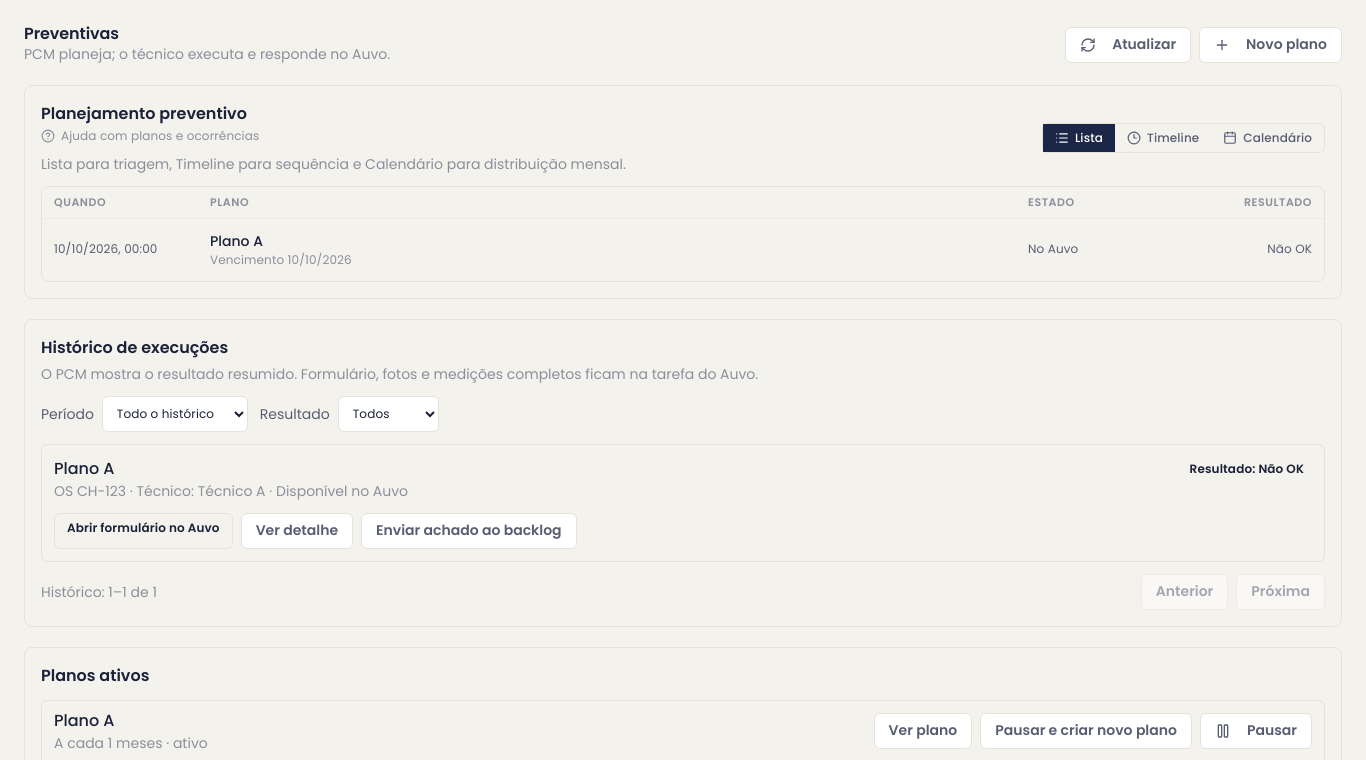
it: PreventivasWorkspace — E01-S53 / E01-S163 AC-10 e AC-15 › abre o detalhe da ocorrência ao selecioná-la no calendário
The image size is (1366, 760).
Click the button "Calendário" at {"x": 1268, "y": 138}, box [1211,124,1324,152]
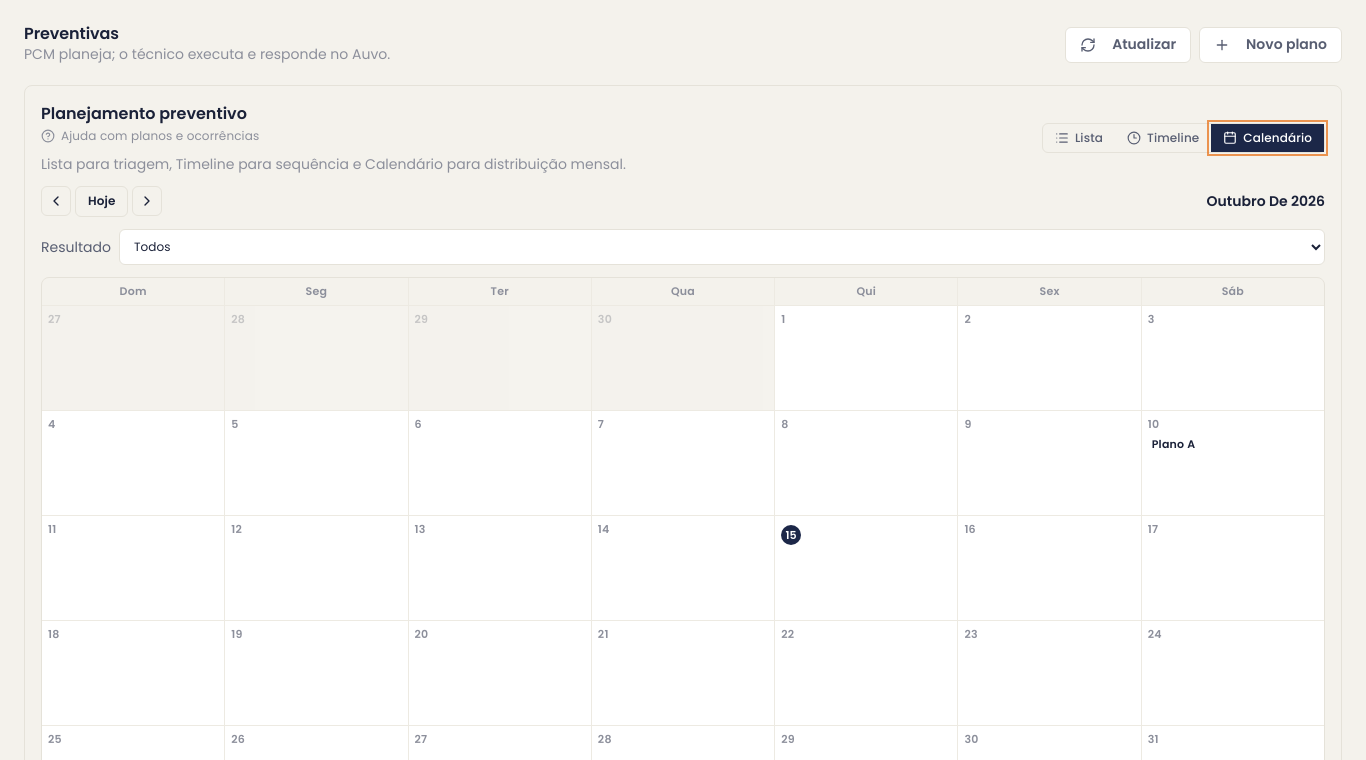
Click the button with aria-label "Plano A: No Auvo" at {"x": 1233, "y": 445}, box [1148,436,1318,454]
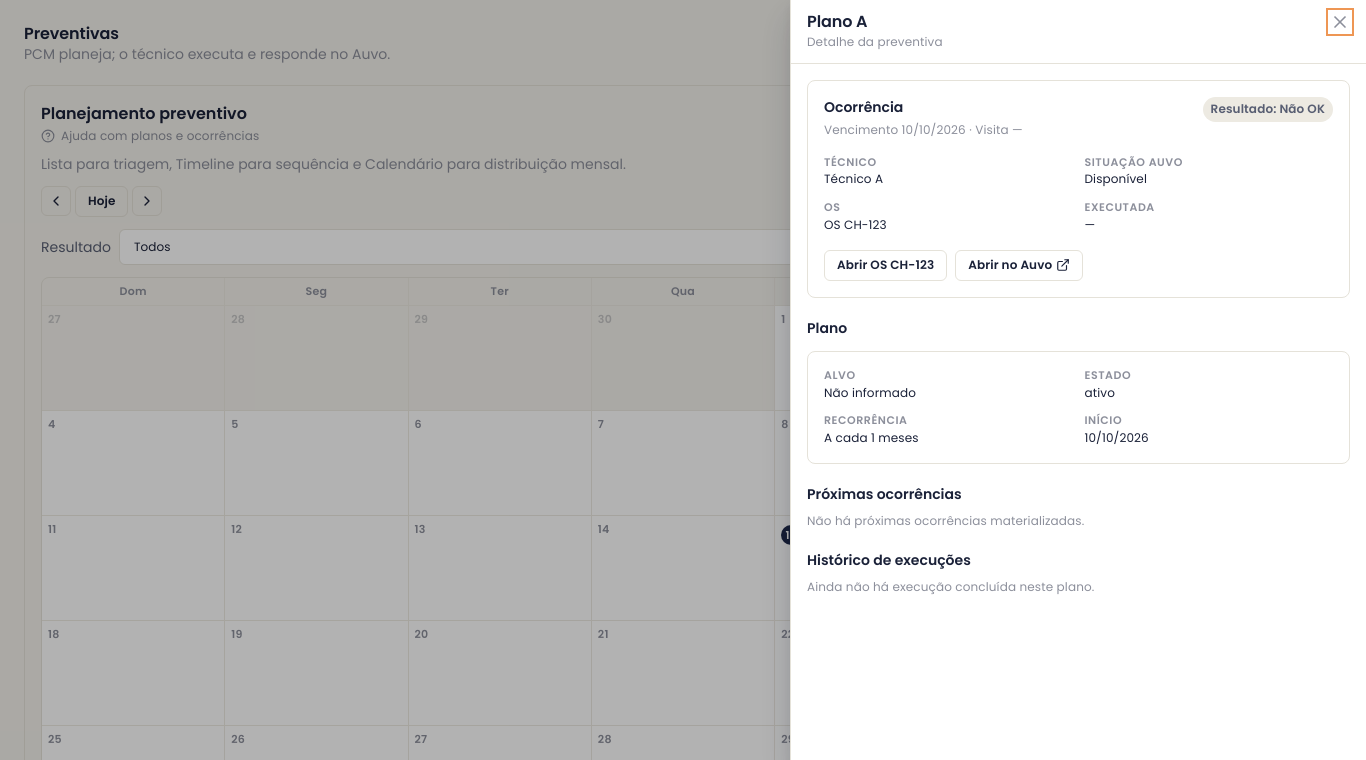
Expected: the text "Detalhe da preventiva" is shown, [807,34,943,51]
